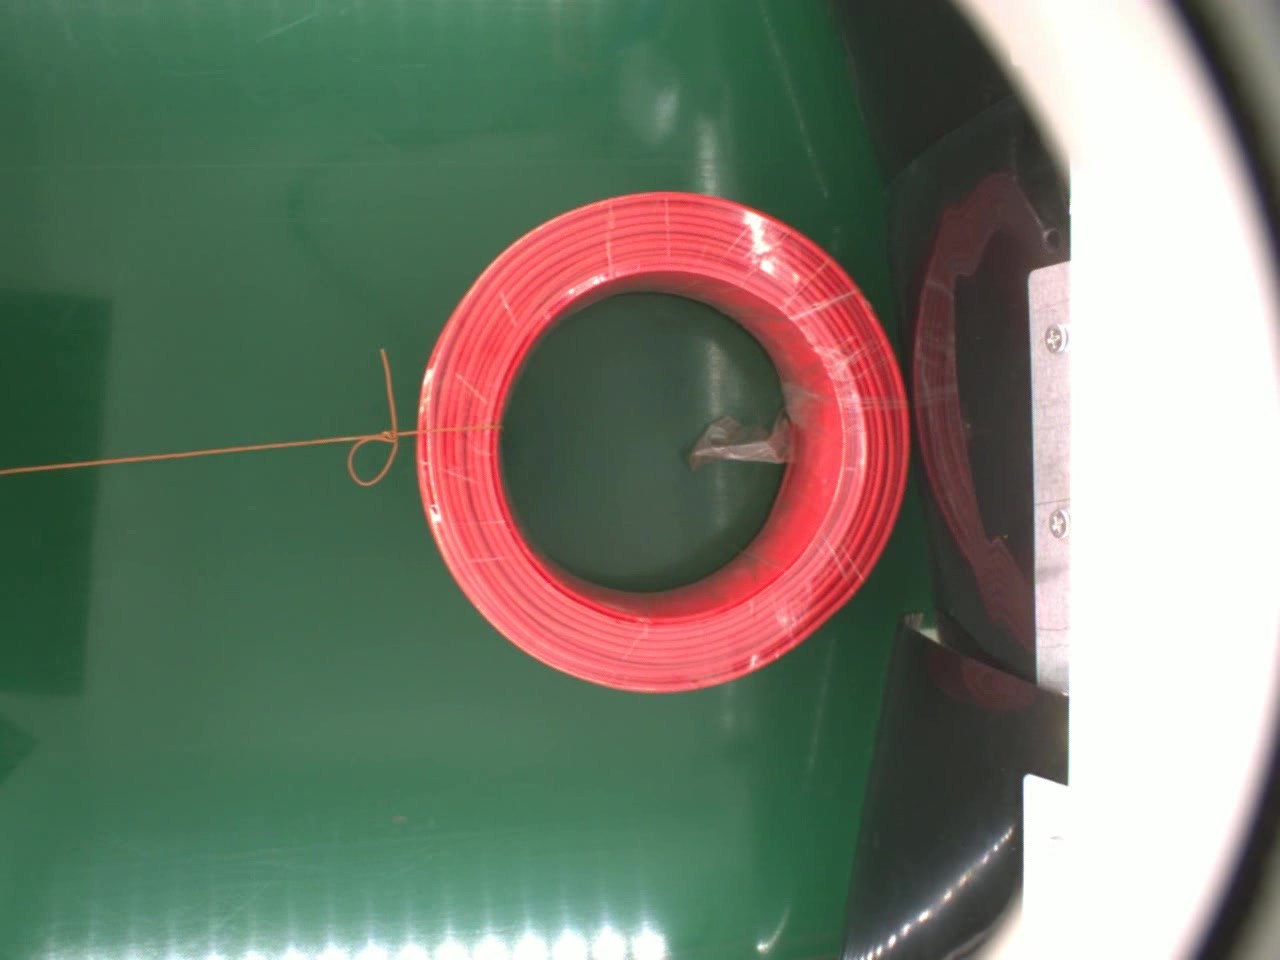red: (409, 187, 916, 698)
